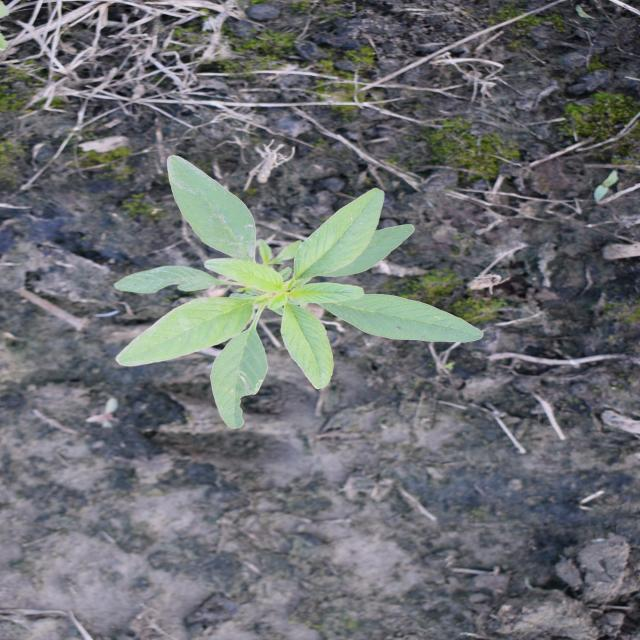Waterhemp: (109, 152, 488, 432)
